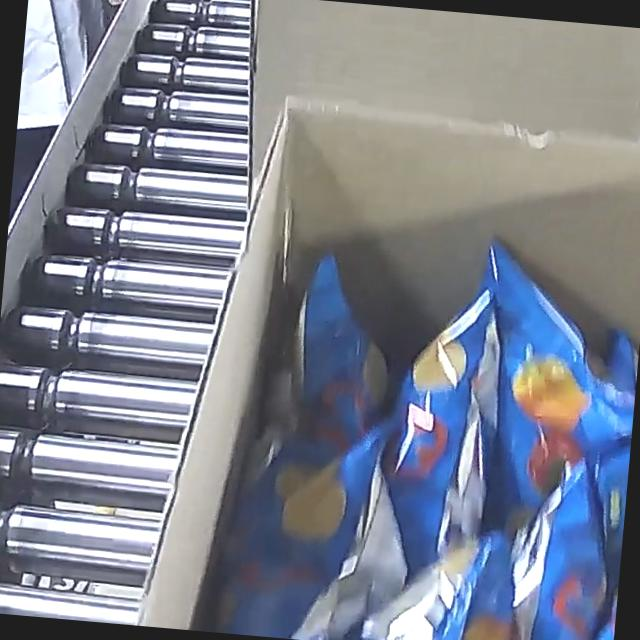paprika: (185, 211, 640, 640)
